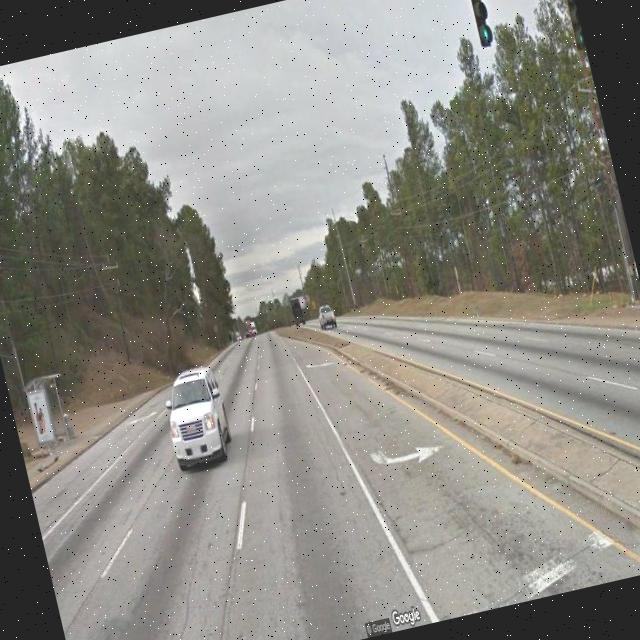shelter: (22, 372, 78, 462)
trash_can: (63, 412, 76, 439)
